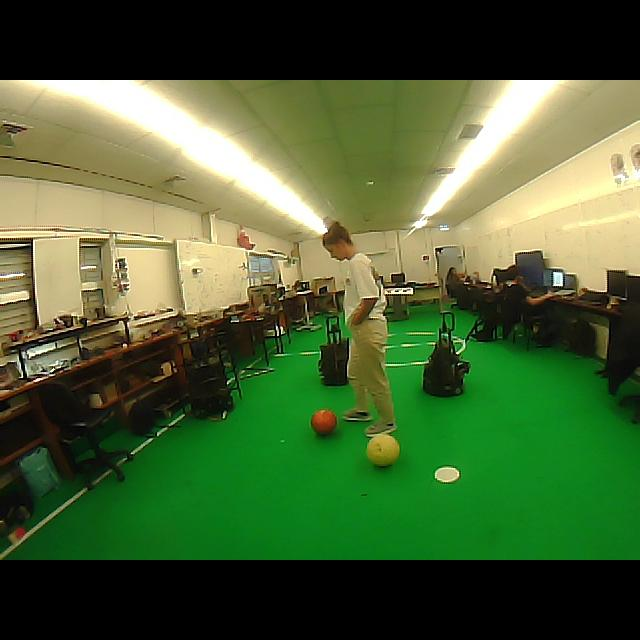ball: (366, 434, 399, 466), (311, 409, 338, 435)
robot: (422, 311, 470, 396), (185, 355, 234, 418), (319, 316, 349, 385)
